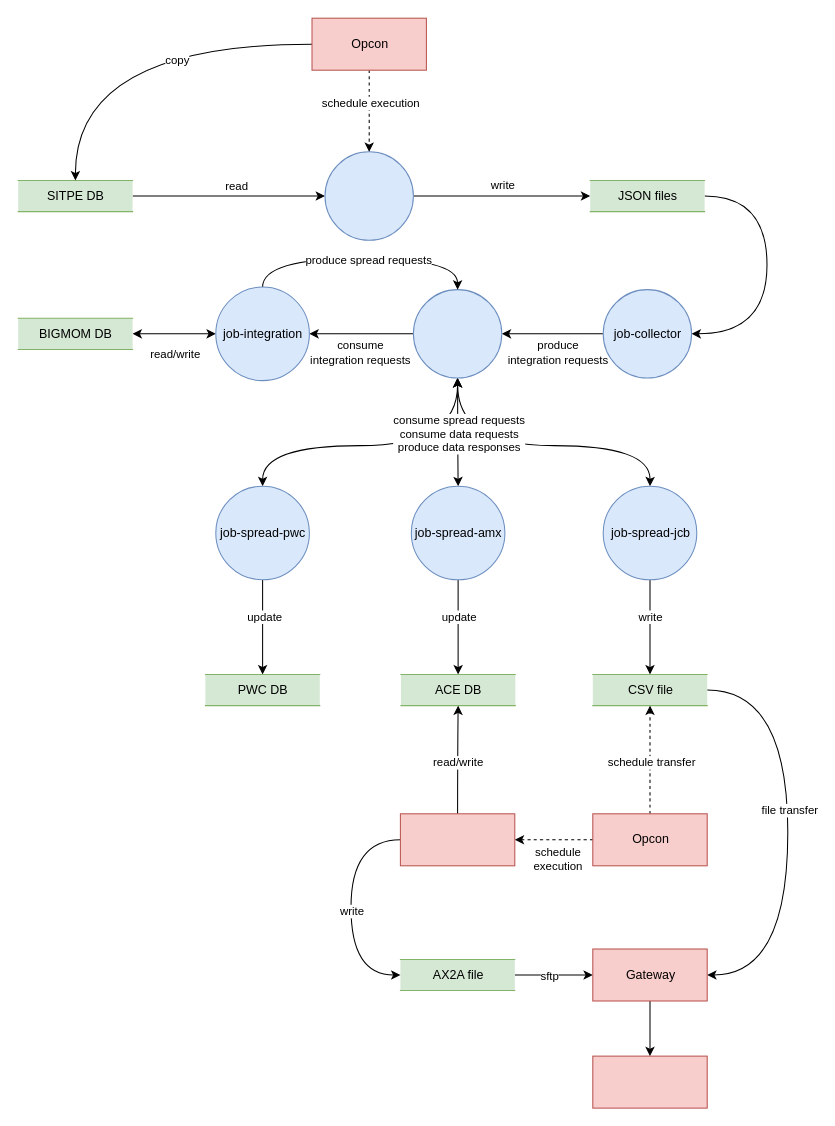
Some shapes in this 835 by 1126 pixel diagram are drawn without their labels. Each missing label, with the centre of its shape:
"Intranet" belongs at [457,839].
"job-extract" belongs at [368,195].
"kafka" belongs at [457,333].
"OSB" belongs at [649,1081].
